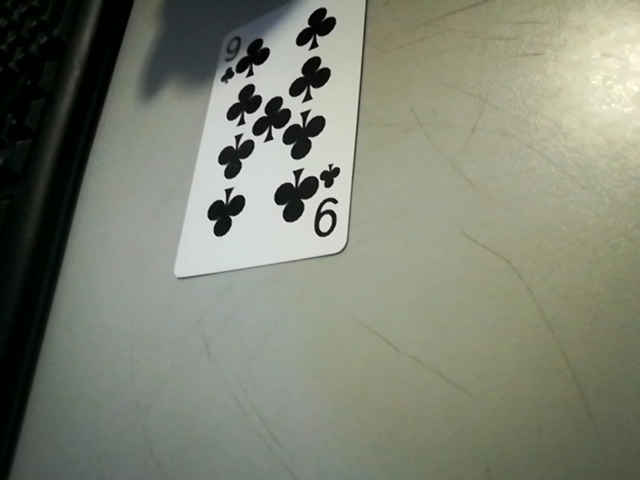mh 9: (308, 169, 352, 250)
